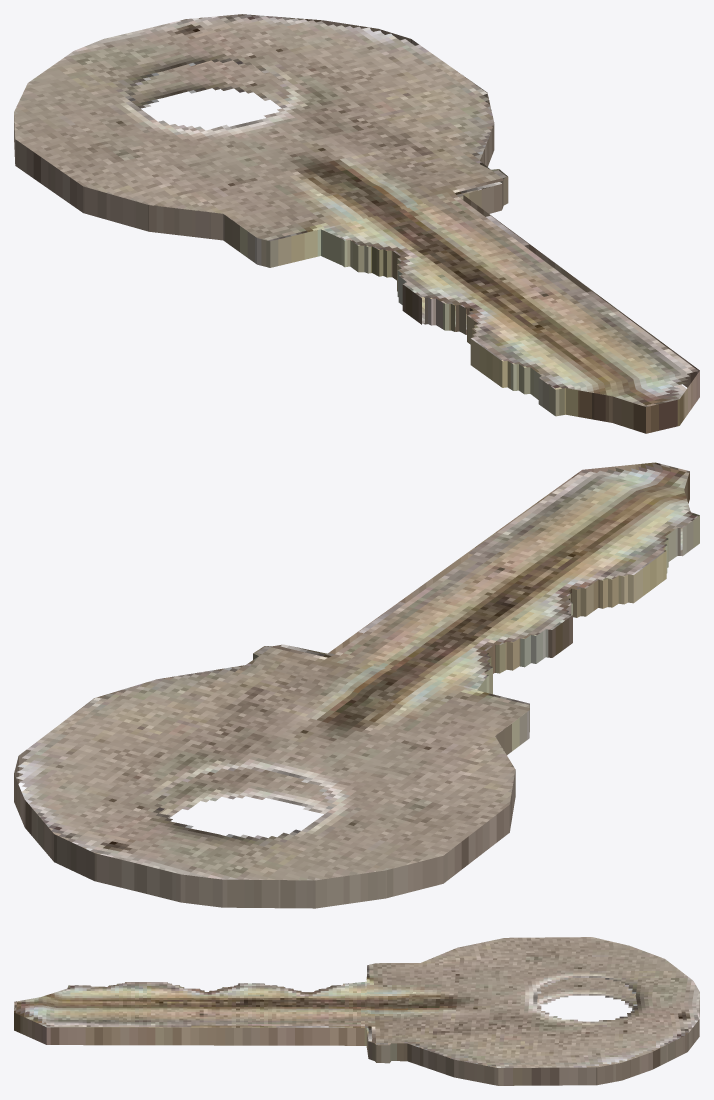
File: Key.glb
3 views of the same model, one above another, from view 1: azimuth 30°, elevation 25°; view 2: azimuth 150°, elevation 25°; view 3: azimuth 270°, elevation 25° (orthographic). The views are drawn at different scales.
Parts seen in each view (by area): view 1: Plane; view 2: Plane; view 3: Plane.
Part boxes in pixels (left/top/right/bottom): Plane: left=14, top=14, right=699, bottom=433; Plane: left=14, top=462, right=699, bottom=908; Plane: left=14, top=937, right=699, bottom=1085.
Bounding box in the file's own units: 0.1367 × 0.00867 × 0.3023.
Materials: 1 (1 with a texture image).
